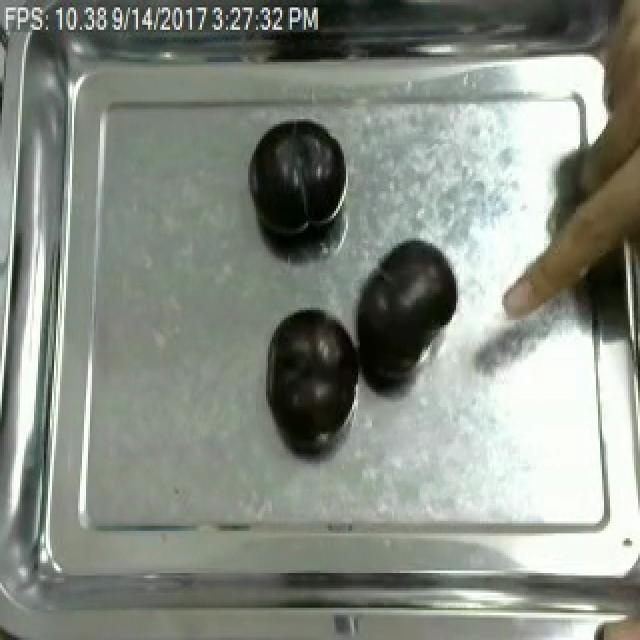Fruit: (350, 230, 466, 390), (260, 303, 358, 442), (244, 117, 348, 246)
